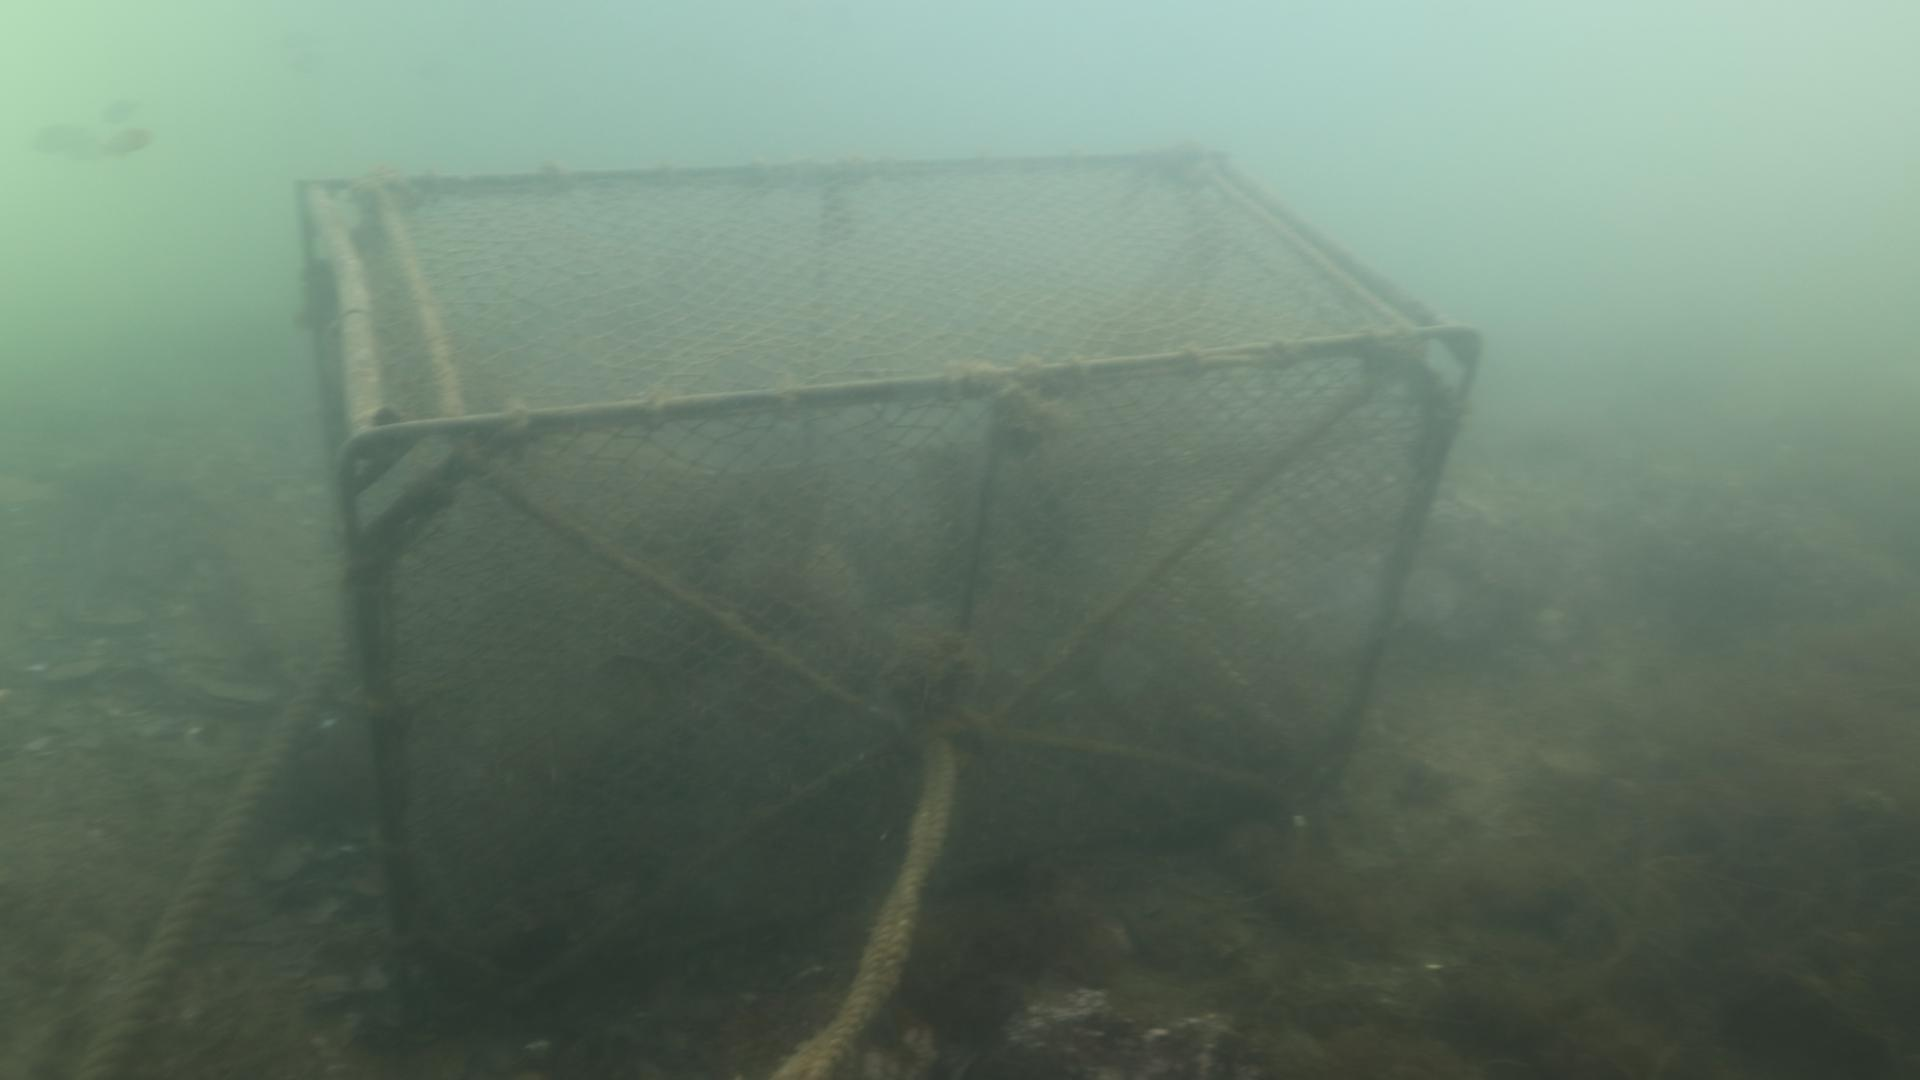bundle of ropes: (769, 742, 957, 1080)
rectangular fish trap: (297, 142, 1480, 992)
